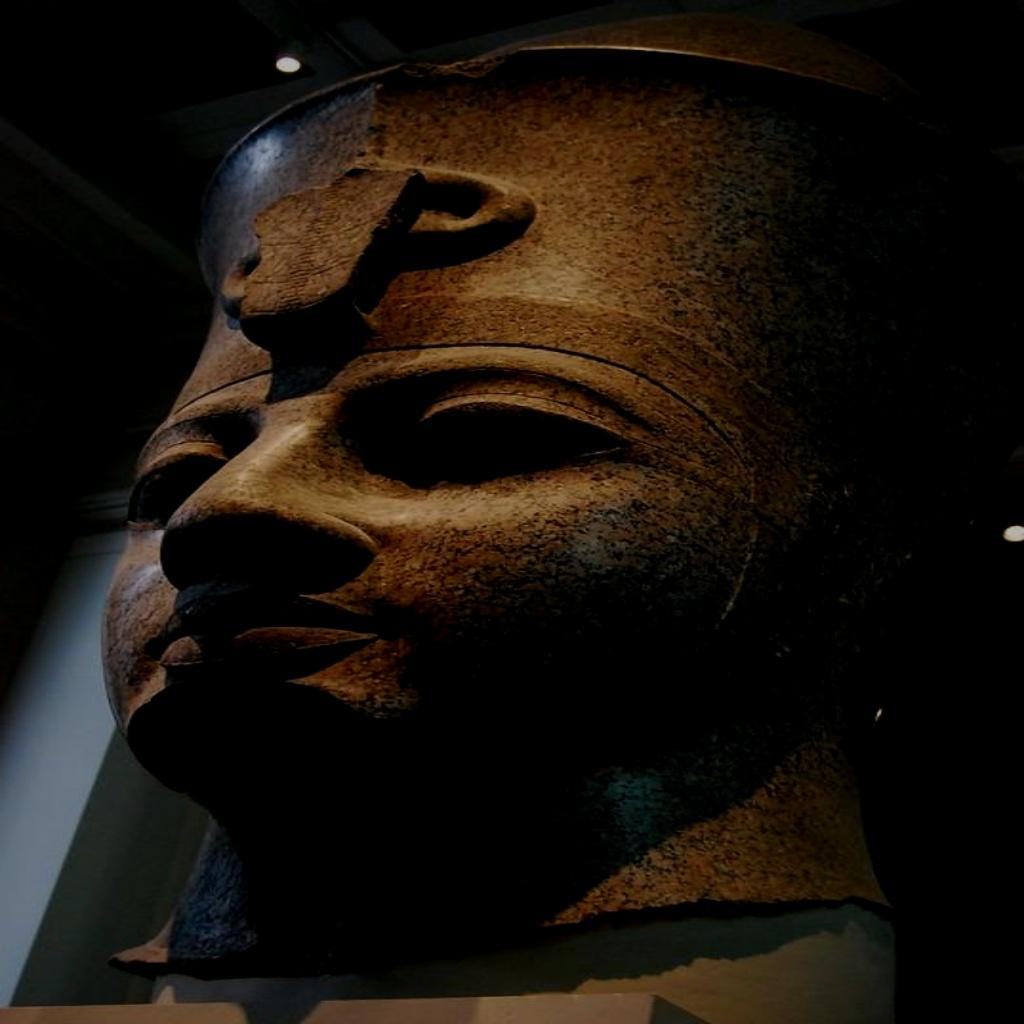Head Statue of Amenhotep iii: (92, 10, 1018, 986)
